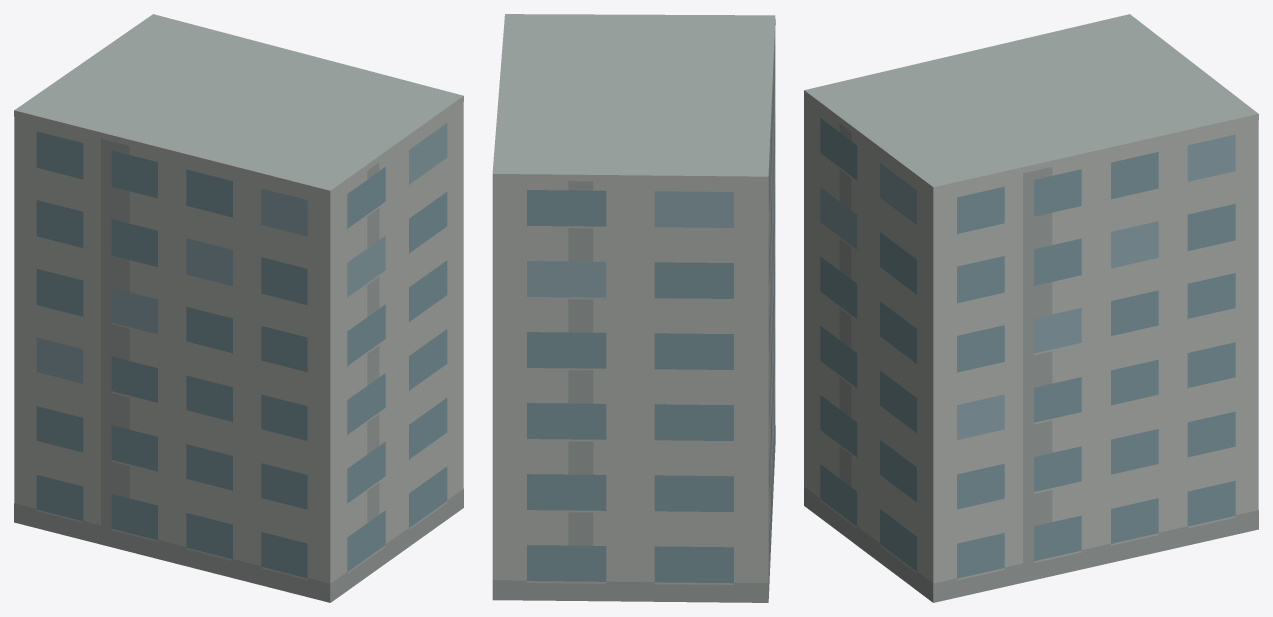
The model's file is survey-upis-32886692.glb.
3 views of the same model, side by side, from view 1: azimuth 30°, elevation 25°; view 2: azimuth 150°, elevation 25°; view 3: azimuth 270°, elevation 25° (orthographic). The views are drawn at different scales.
Visible parts, largest first — view 1: survey-upis-32886692.tmp; view 2: survey-upis-32886692.tmp; view 3: survey-upis-32886692.tmp.
Part boxes in pixels (<box>): survey-upis-32886692.tmp: <box>14,14,463,602</box>; survey-upis-32886692.tmp: <box>492,14,775,602</box>; survey-upis-32886692.tmp: <box>804,14,1258,602</box>.
Size of the model in its own units: 14.41 by 16.1 by 15.97.
